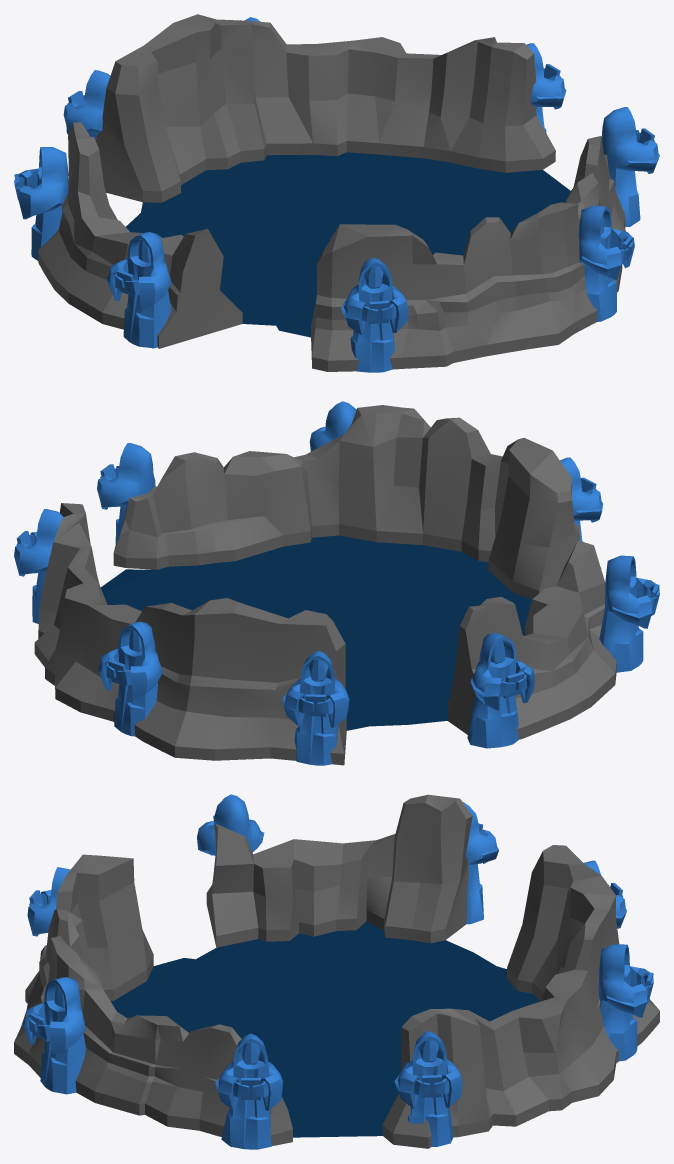
File: CentroPortales.fbx
The picture shows the model from 3 angles, top to bottom: view 1: azimuth 30°, elevation 25°; view 2: azimuth 150°, elevation 25°; view 3: azimuth 270°, elevation 25°; orthographic projection.
Parts seen in each view (by area): view 1: Box021, Seabed, Box012; view 2: Box021, Seabed, Box012; view 3: Box021, Seabed, Box012.
Boxes of the visible parts, left/top/right/bottom form: Box021: left=38, top=14, right=626, bottom=371; Seabed: left=126, top=152, right=570, bottom=337; Box012: left=14, top=17, right=659, bottom=372; Box021: left=34, top=405, right=616, bottom=765; Seabed: left=100, top=535, right=531, bottom=730; Box012: left=14, top=401, right=659, bottom=765; Box021: left=14, top=794, right=659, bottom=1148; Seabed: left=110, top=921, right=540, bottom=1137; Box012: left=22, top=794, right=653, bottom=1149.
Size of the model in its own units: 1867 by 433 by 1899.
